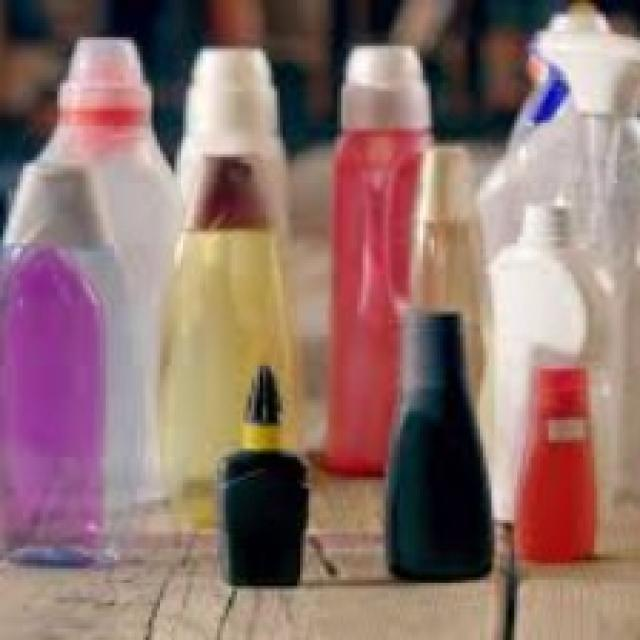plastic: (384, 309, 497, 590), (206, 360, 317, 598), (516, 361, 604, 565)
plastic_bottle: (1, 164, 132, 576), (161, 155, 298, 530), (326, 54, 433, 465), (499, 209, 591, 534), (419, 151, 501, 459)
